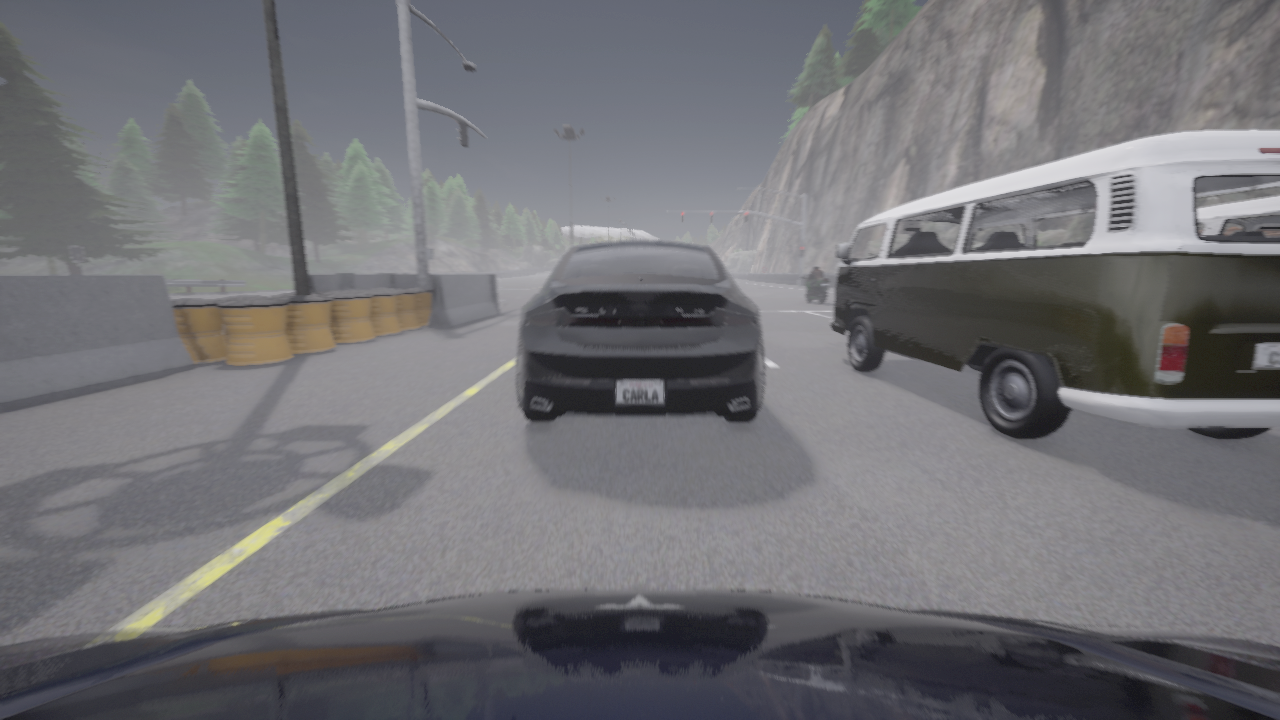cyclist: (0, 588, 1279, 719), (830, 129, 1279, 439), (516, 239, 764, 422), (802, 274, 829, 302)
